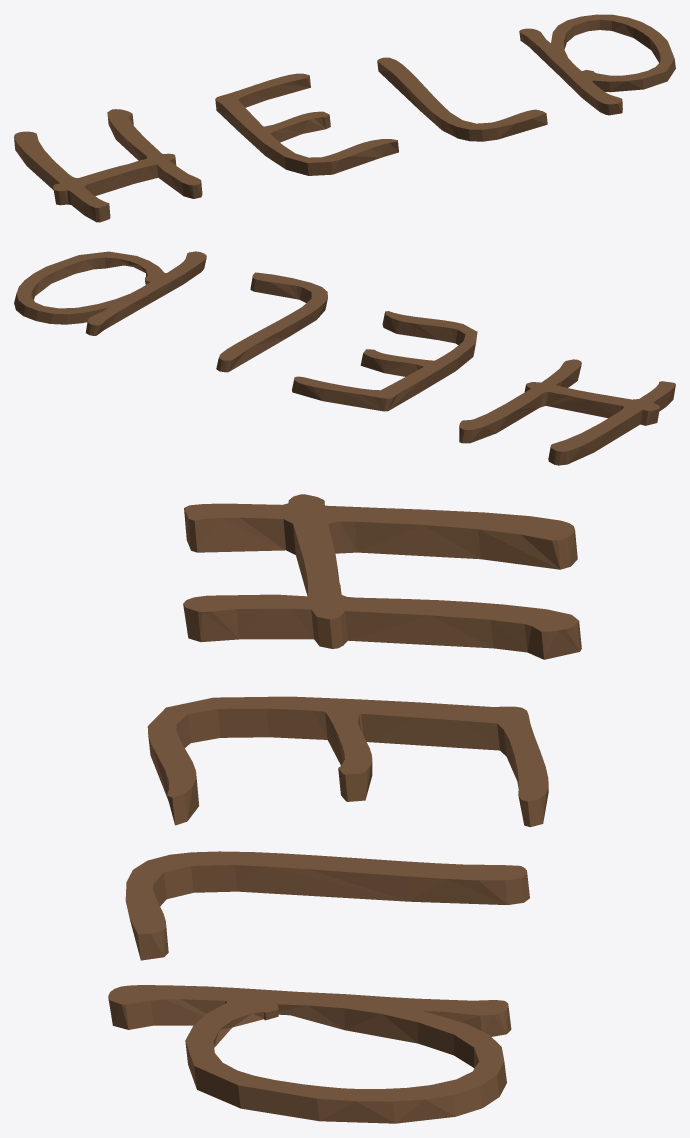
The model's file is Isl_14_Sign_Help.fbx.
The picture shows the model from 3 angles, top to bottom: view 1: azimuth 30°, elevation 25°; view 2: azimuth 150°, elevation 25°; view 3: azimuth 270°, elevation 25°; orthographic projection. The views are drawn at different scales.
Visible parts, largest first — view 1: Isl_14_Sign_Help; view 2: Isl_14_Sign_Help; view 3: Isl_14_Sign_Help.
Boxes of the visible parts, left/top/right/bottom form: Isl_14_Sign_Help: left=14, top=14, right=675, bottom=222; Isl_14_Sign_Help: left=14, top=251, right=675, bottom=465; Isl_14_Sign_Help: left=108, top=494, right=581, bottom=1123.
Bounding box in the file's own units: 616 × 206 × 14.54.
1 material, 1 textured.
